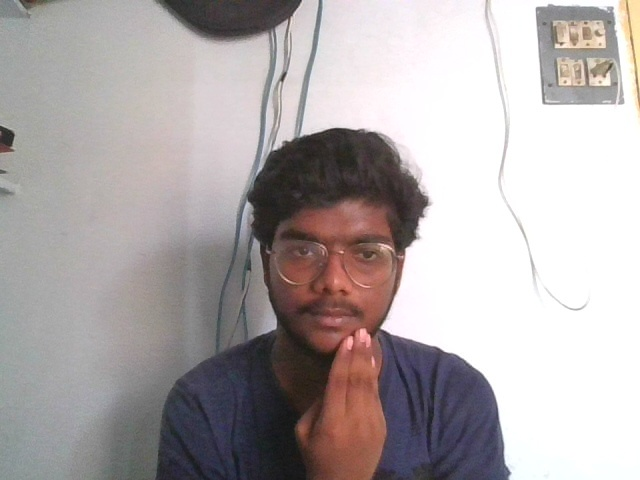Thanks: (290, 325, 388, 475)
